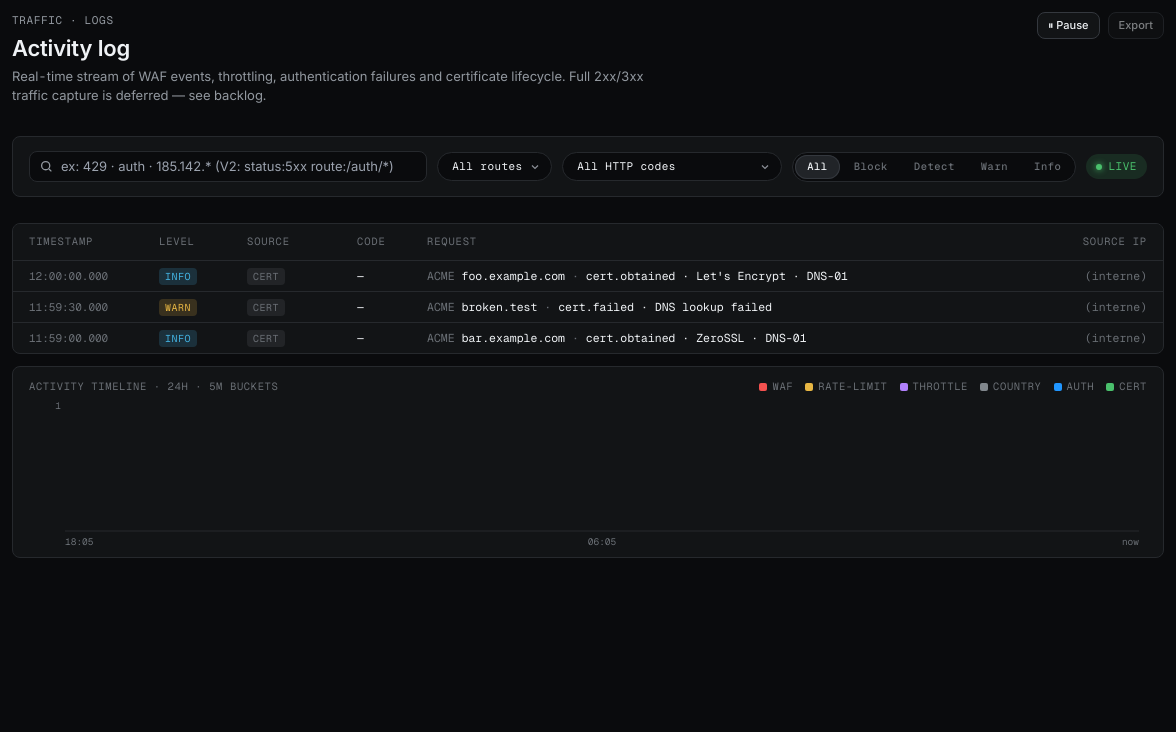
Test: /logs — search across cert content › search "Let's Encrypt" matches only Let's Encrypt-issued rows
Type "Let's Encrypt" into the search field named "Filter events" at (239, 167), box 61,157 -> 416,176
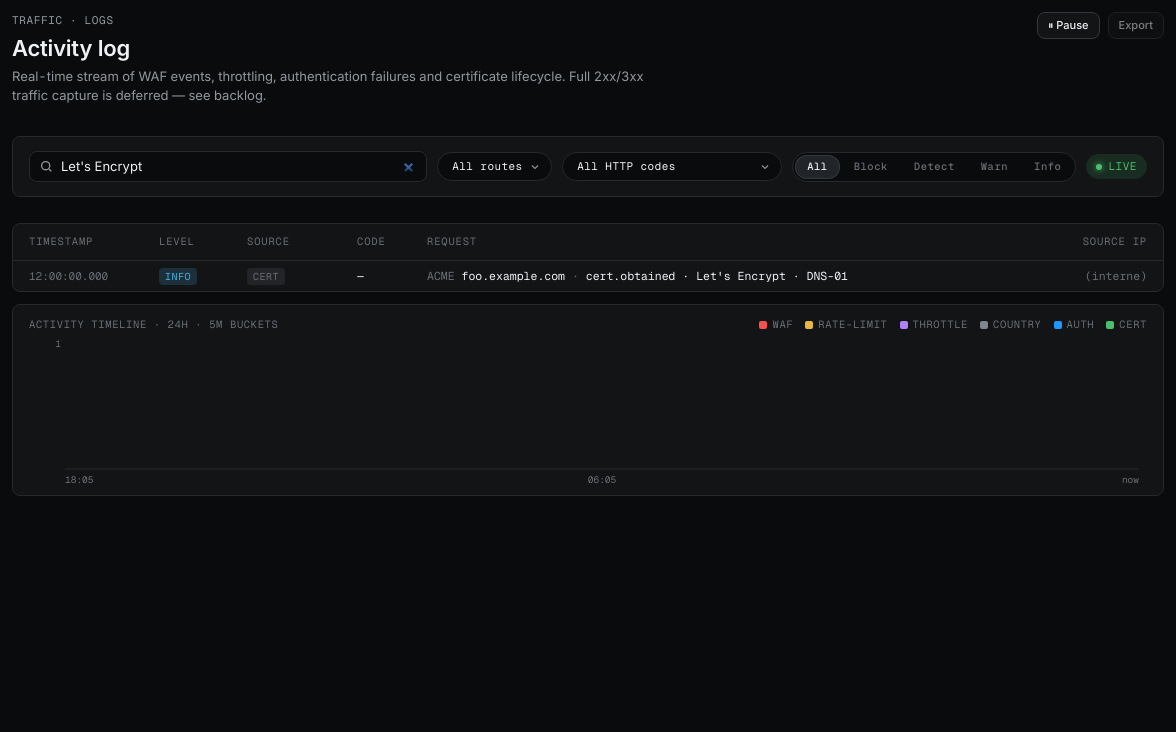
expect the text "foo.example.com" is shown: met, box 462,268 -> 565,283
expect the text "bar.example.com" is gone: met
expect the text "broken.test" is gone: met
